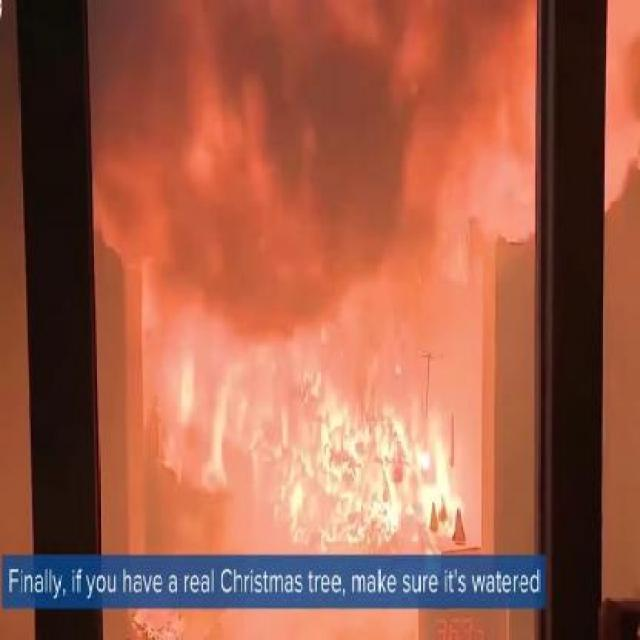fire: (220, 354, 462, 524)
smoke: (274, 38, 396, 198), (68, 0, 176, 128)
